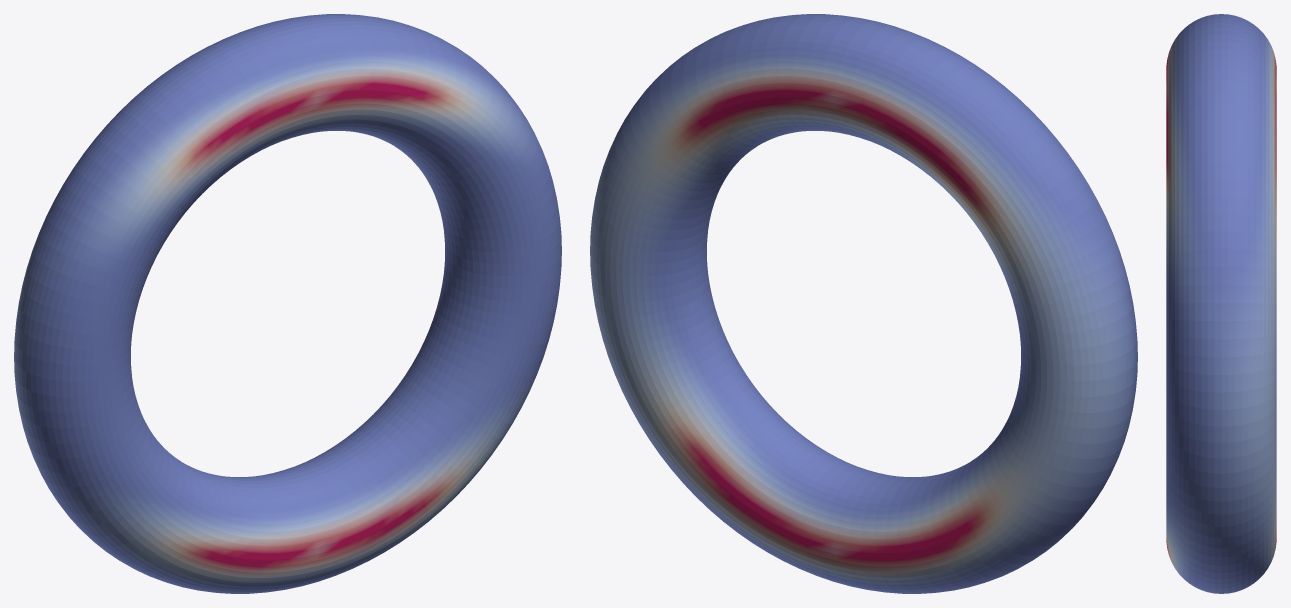
3 views of the same model, side by side, from view 1: azimuth 30°, elevation 25°; view 2: azimuth 150°, elevation 25°; view 3: azimuth 270°, elevation 25° (orthographic). The views are drawn at different scales.
Visible parts, largest first — view 1: world; view 2: world; view 3: world.
Boxes of the visible parts, x1=… form: world: x1=14, y1=14, x2=561, y2=593; world: x1=590, y1=14, x2=1137, y2=593; world: x1=1166, y1=14, x2=1276, y2=593.
Bounding box in the file's own units: 18.93 × 18.93 × 3.59.
